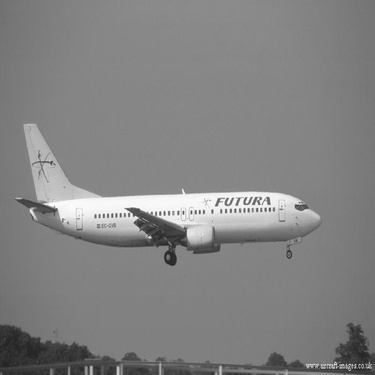airplane: (11, 119, 326, 267)
